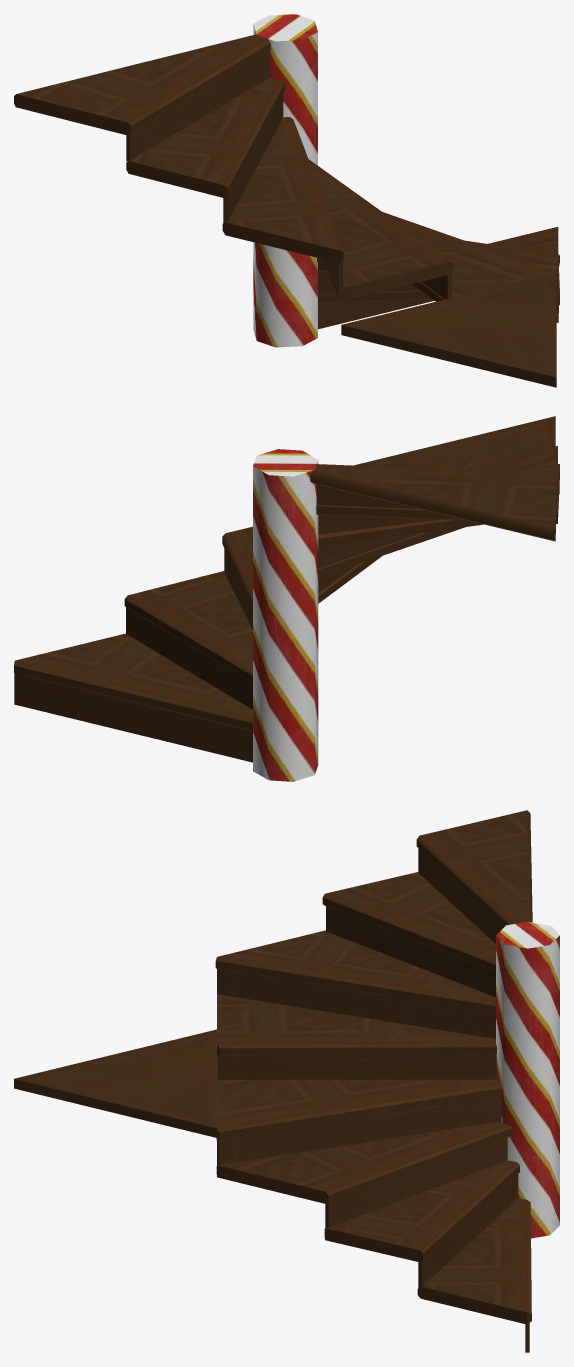
File: stairs.triangle.spiral.gingerbread.glb
3 renders of one model, top to bottom at view 1: azimuth 30°, elevation 25°; view 2: azimuth 150°, elevation 25°; view 3: azimuth 270°, elevation 25°, orthographic. The views are drawn at different scales.
Parts seen in each view (by area): view 1: stairs.triangle.spiral_LOD0; view 2: stairs.triangle.spiral_LOD0; view 3: stairs.triangle.spiral_LOD0.
Boxes of the visible parts, left/top/right/bottom form: stairs.triangle.spiral_LOD0: left=14, top=14, right=559, bottom=387; stairs.triangle.spiral_LOD0: left=14, top=416, right=559, bottom=781; stairs.triangle.spiral_LOD0: left=14, top=810, right=559, bottom=1352.
Bounding box in the file's own units: 2.79 × 1.51 × 2.56.
1 material, 1 textured.
